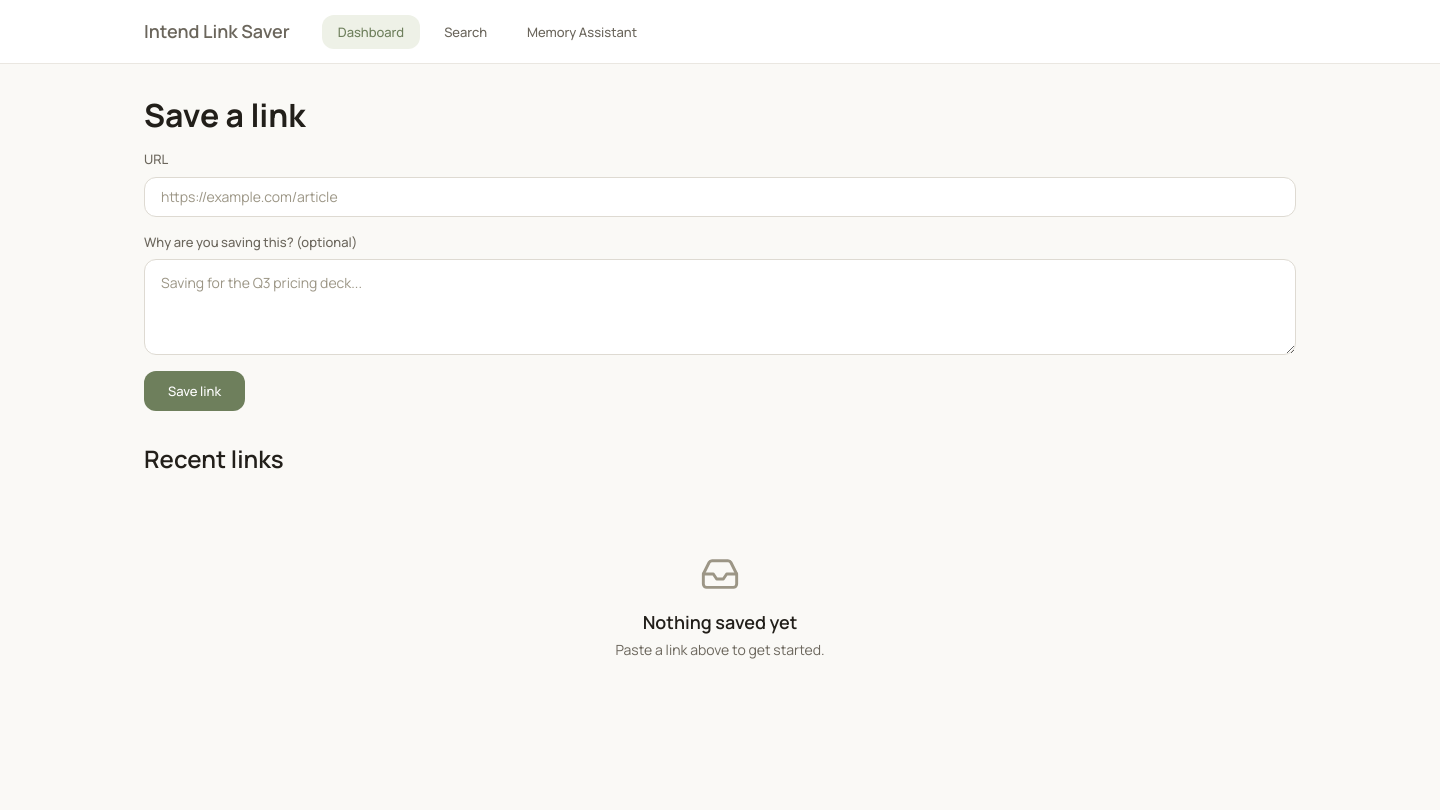
Test: HomePage › shows a validation error when the URL is empty
Expected: the heading "Nothing saved yet" is shown, [643,610,797,635]
Click the button "Save link": (194, 391) [144,371,245,411]
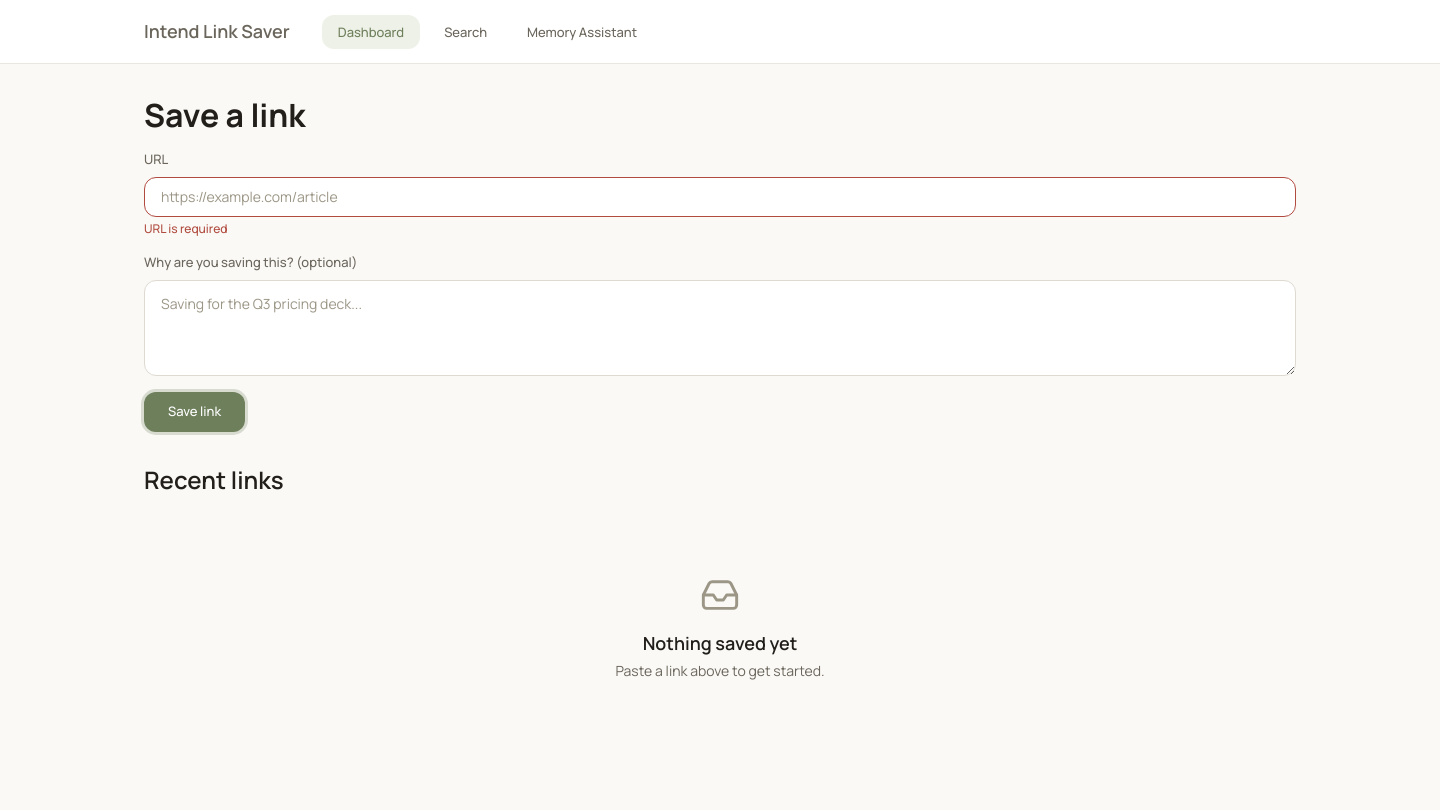
Expected: the text "URL is required" is shown, [144,220,228,237]
